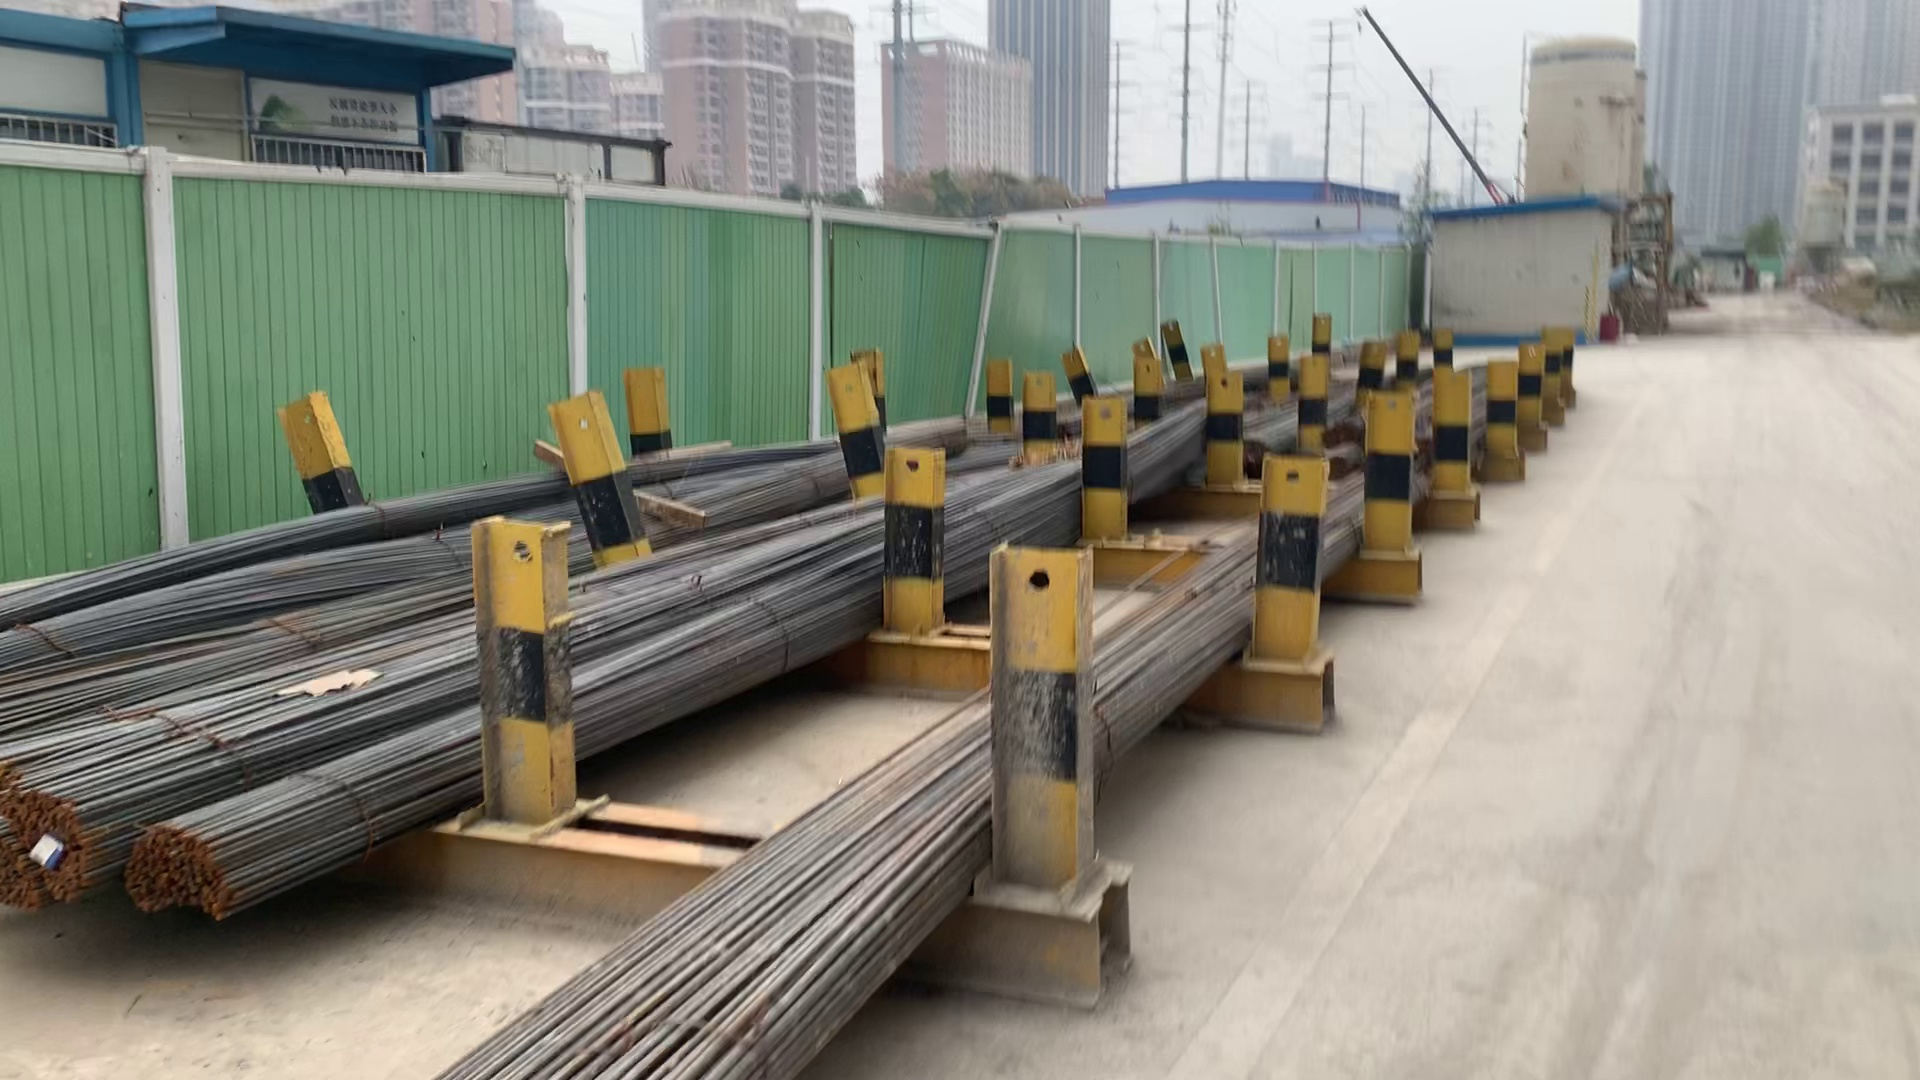rebar: (3, 769, 100, 906), (123, 831, 229, 914)
